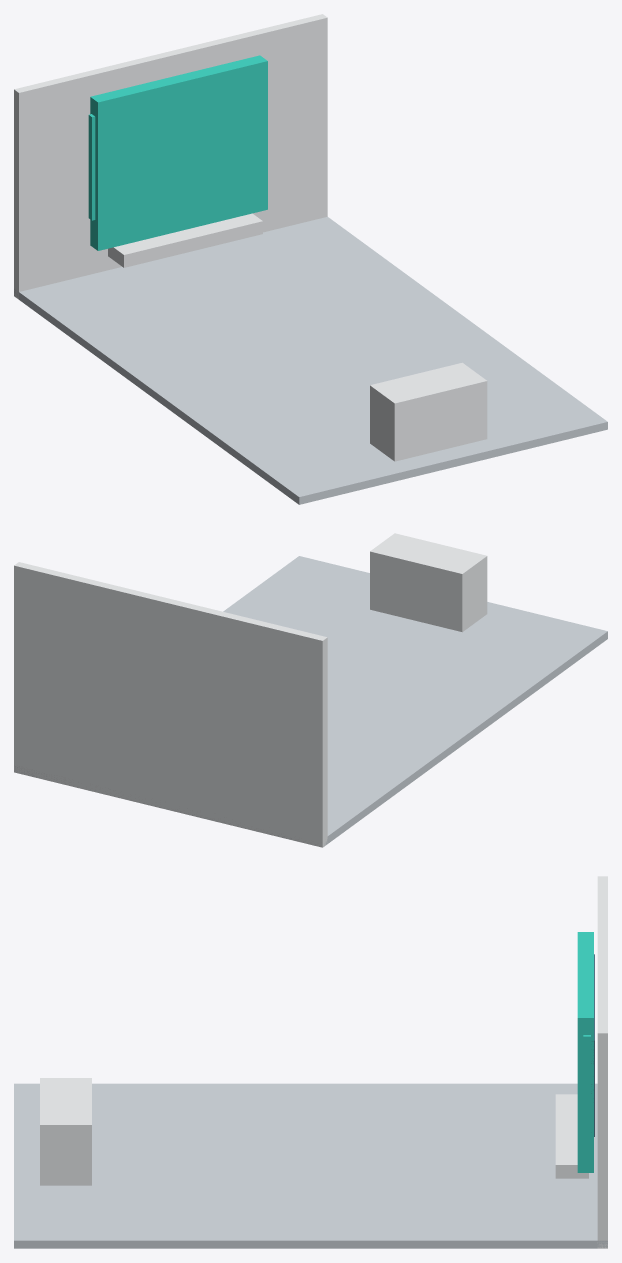
3 views of the same model, one above another, from view 1: azimuth 30°, elevation 25°; view 2: azimuth 150°, elevation 25°; view 3: azimuth 270°, elevation 25° (orthographic). The views are drawn at different scales.
Visible parts, largest first — view 1: Exhibition Booth Concept; view 2: Exhibition Booth Concept; view 3: Exhibition Booth Concept.
Part boxes in pixels (left/top/right/bottom): Exhibition Booth Concept: left=14, top=14, right=607, bottom=504; Exhibition Booth Concept: left=14, top=533, right=607, bottom=847; Exhibition Booth Concept: left=14, top=876, right=607, bottom=1248.
Bounding box in the file's own units: 5 × 3.2 × 8.
